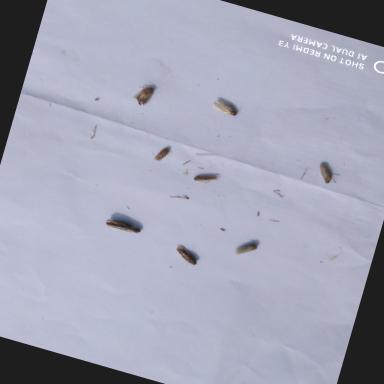pbw: (98, 210, 150, 241), (204, 90, 248, 122), (309, 156, 347, 192), (130, 76, 164, 114), (186, 164, 226, 196), (228, 232, 266, 265), (166, 238, 205, 270)
